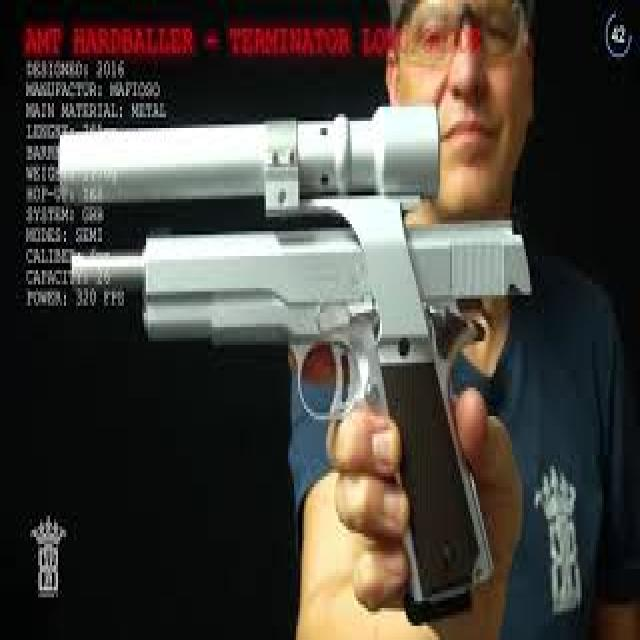handgun: (72, 217, 536, 618)
